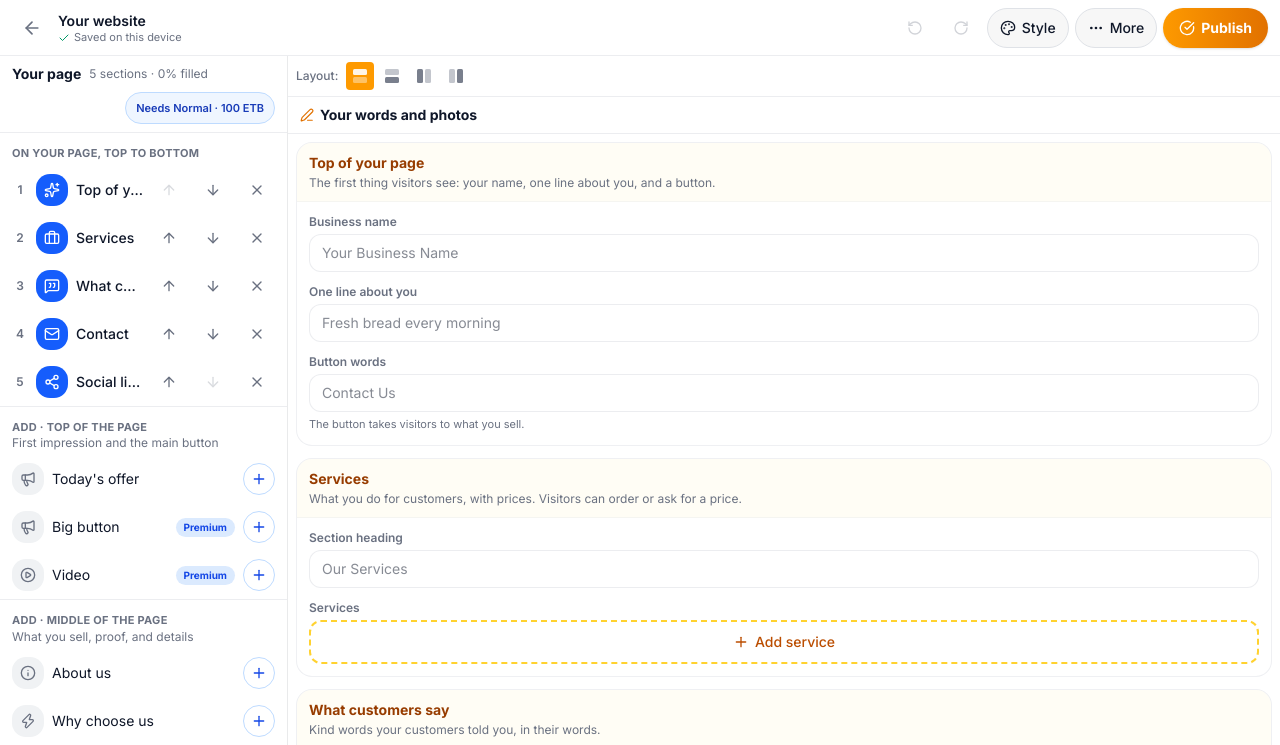
it: Studio layouts › has no website export or copy code anywhere
The width and height of the screenshot is (1280, 745).
Click the button with aria-label "More options": (1116, 28) [1075,8,1157,48]
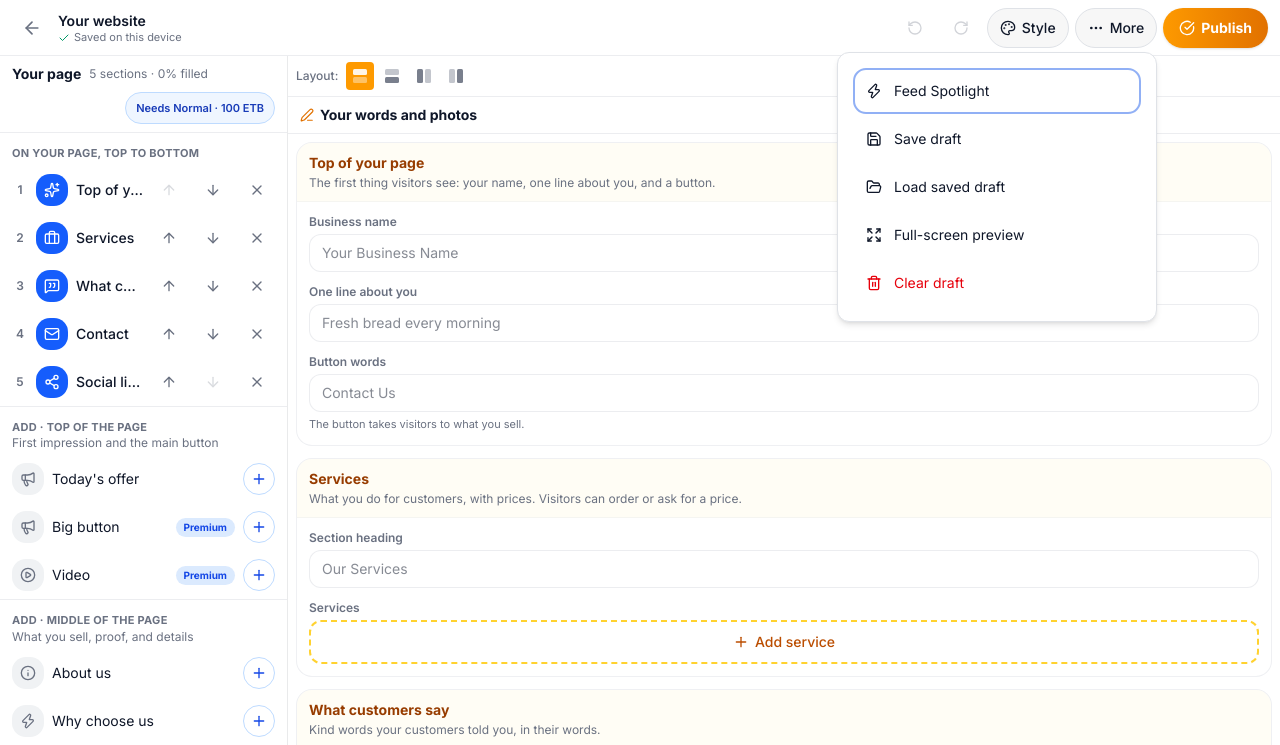
Result: the button "Full-screen preview" is shown at [854,213,1140,257]
